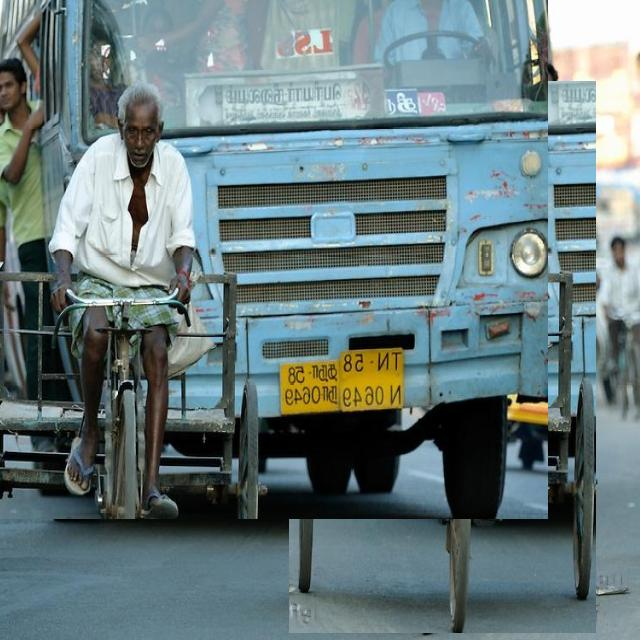bicycle: (289, 82, 596, 633)
bus: (0, 0, 548, 519)
